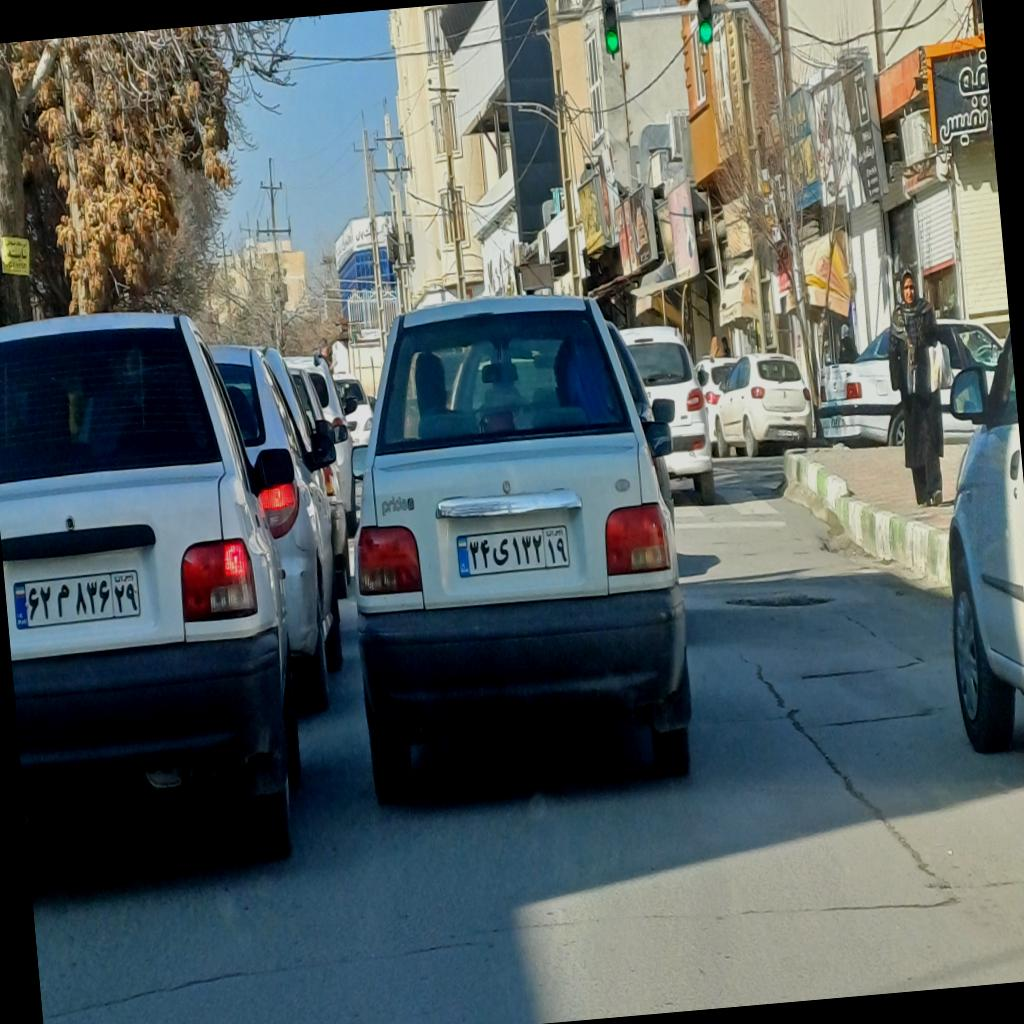Plates: (11, 570, 143, 628), (455, 524, 571, 578)
